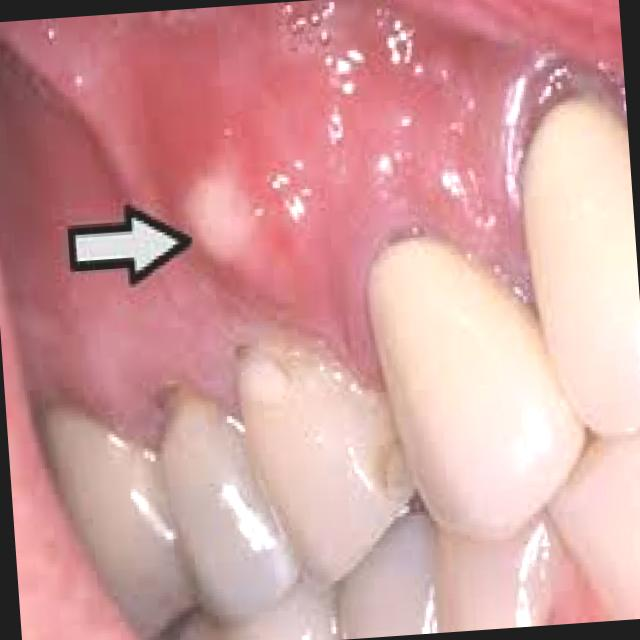abscess: (162, 130, 270, 298)
